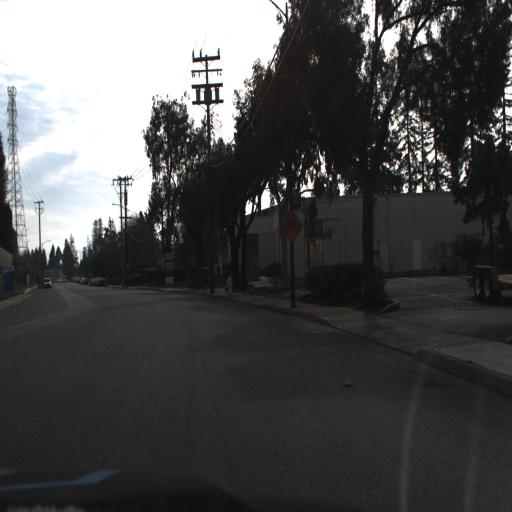car: (43, 278, 52, 289), (98, 277, 106, 288), (79, 277, 88, 284), (94, 277, 99, 286), (90, 278, 94, 285), (92, 278, 96, 285)
